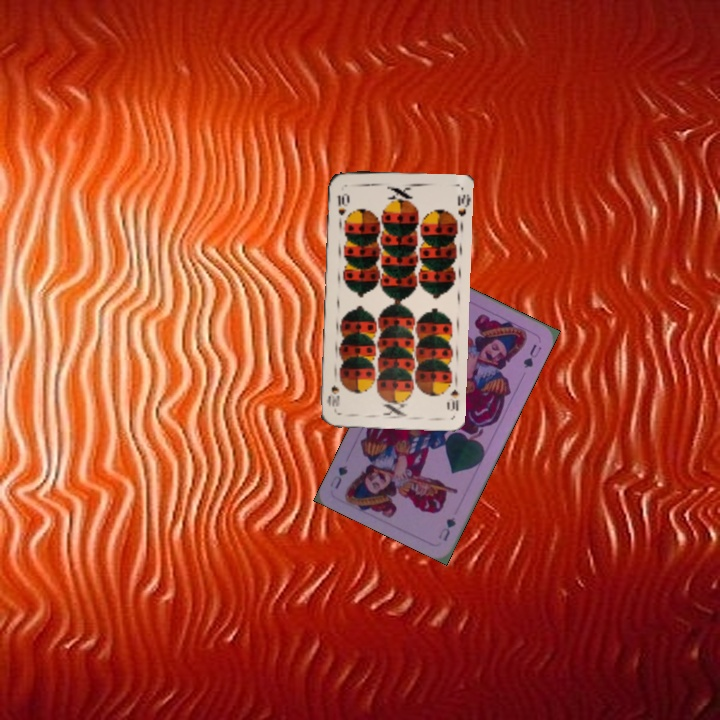GU: (434, 513, 458, 544)
S10: (443, 386, 461, 414), (334, 189, 349, 218)
